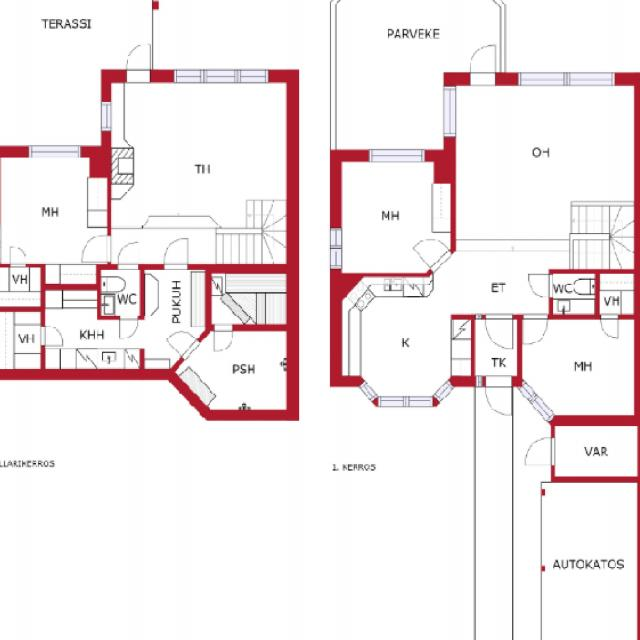door: (412, 229, 452, 272), (166, 322, 201, 361), (470, 45, 495, 85), (485, 376, 511, 414), (485, 314, 513, 349), (126, 44, 150, 83), (163, 237, 188, 270), (526, 437, 555, 465), (523, 314, 548, 346), (84, 236, 112, 261), (528, 274, 553, 297), (118, 242, 138, 270), (214, 326, 233, 353), (41, 326, 64, 346), (119, 316, 138, 340), (601, 314, 618, 339), (10, 246, 26, 268)
